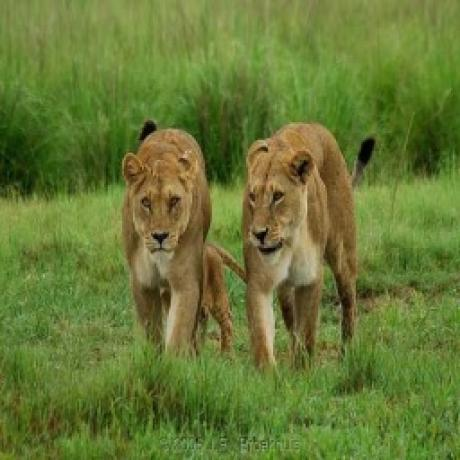Lion: (241, 119, 374, 370), (121, 119, 208, 366)
